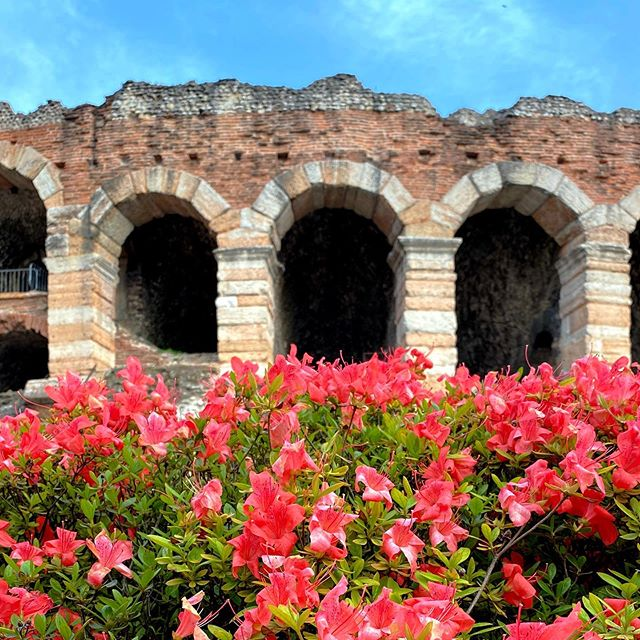building: (22, 77, 631, 370)
flowers: (10, 366, 640, 640)
sky: (1, 1, 629, 100)
